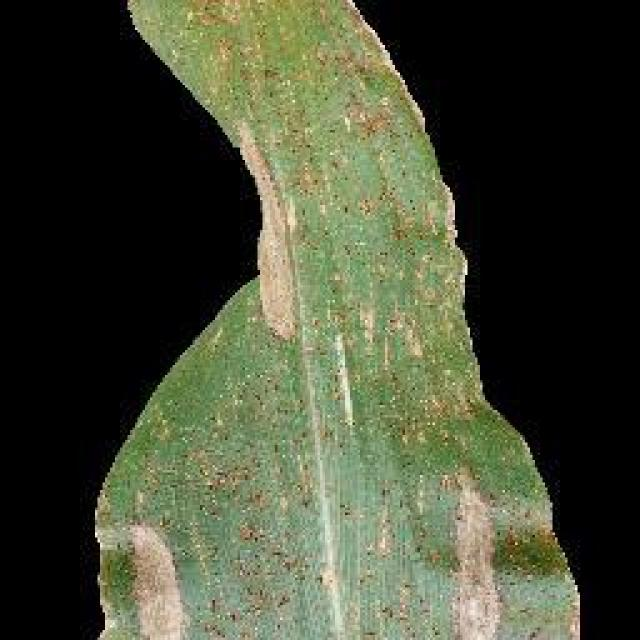Corn Common Rust: (225, 107, 540, 640)
